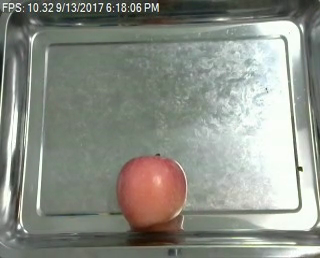Apple: (115, 155, 188, 229)
